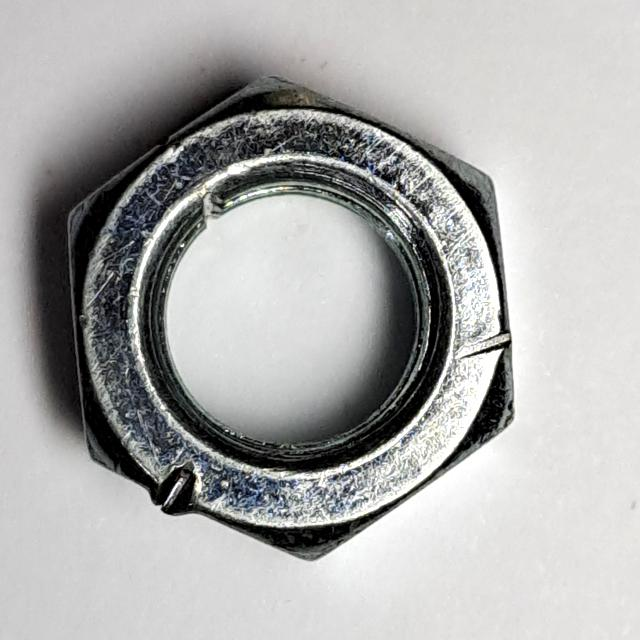Scratches: (57, 66, 530, 573)
